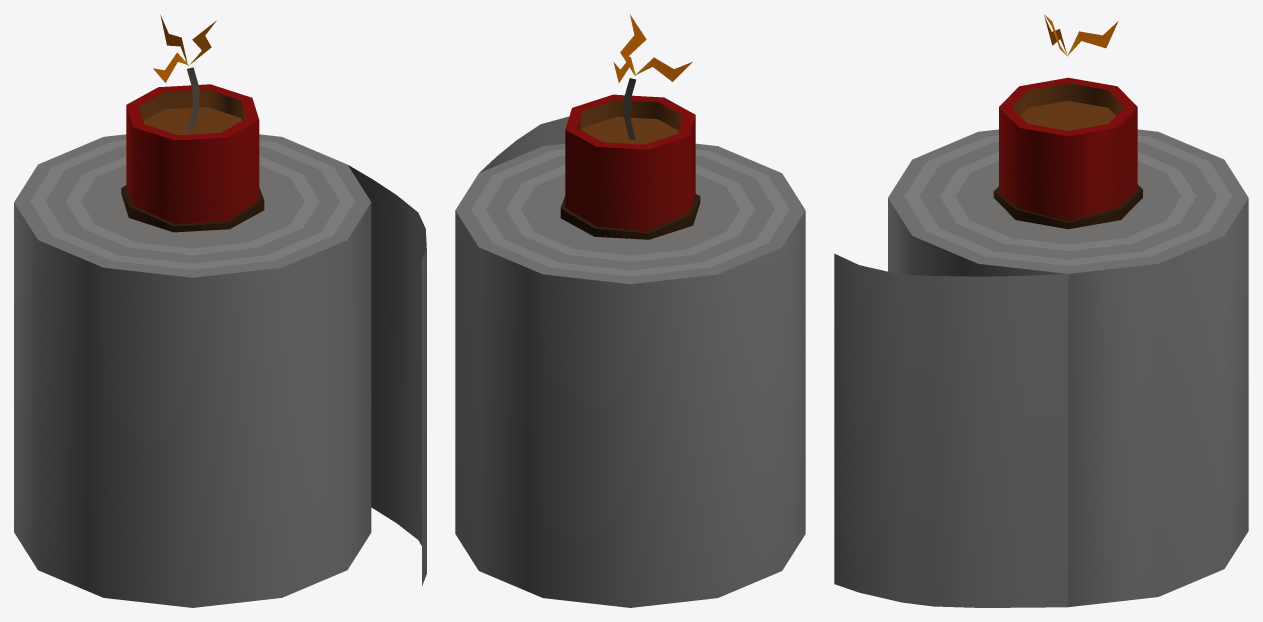
File: grenade_premium_ToiletPaper.glb
3 views of the same model, side by side, from view 1: azimuth 30°, elevation 25°; view 2: azimuth 150°, elevation 25°; view 3: azimuth 270°, elevation 25° (orthographic). The views are drawn at different scales.
Visible parts, largest first — view 1: grenade_premium_ToiletPaper; view 2: grenade_premium_ToiletPaper; view 3: grenade_premium_ToiletPaper.
Boxes of the visible parts, left/top/right/bottom form: grenade_premium_ToiletPaper: left=14, top=15, right=426, bottom=607; grenade_premium_ToiletPaper: left=455, top=14, right=805, bottom=607; grenade_premium_ToiletPaper: left=834, top=14, right=1248, bottom=607.
Bounding box in the file's own units: 0.1097 × 0.176 × 0.1238.
